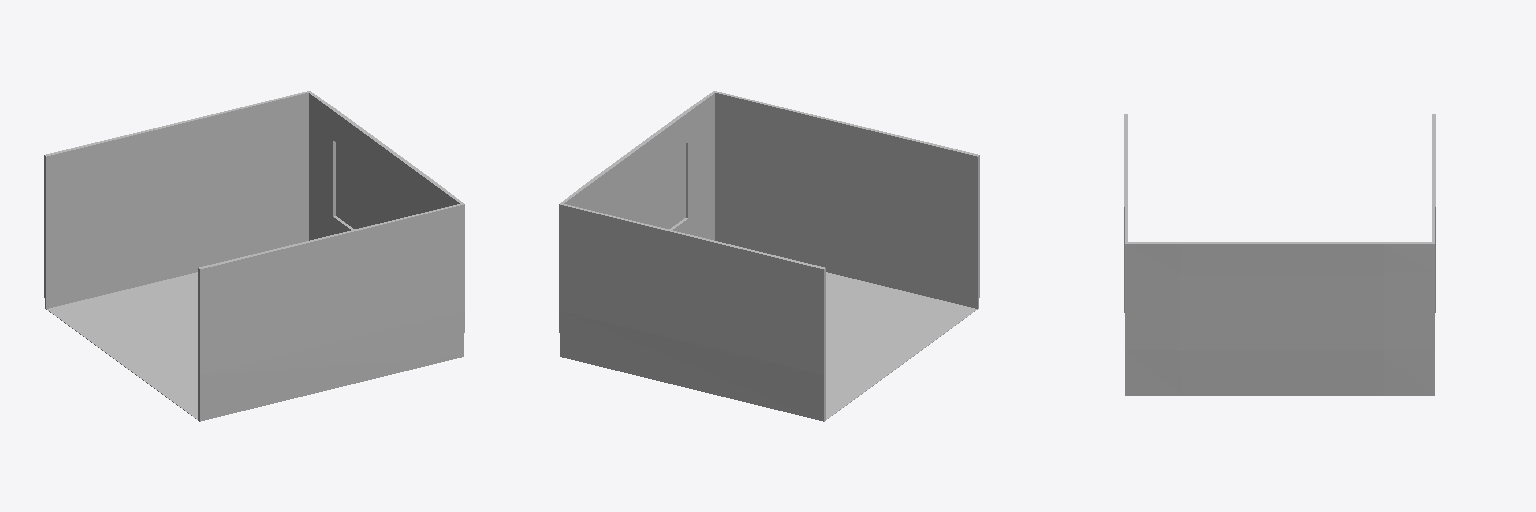
Rendered from gr_walls.obj.
The picture shows the model from 3 angles: view 1: azimuth 30°, elevation 25°; view 2: azimuth 150°, elevation 25°; view 3: azimuth 270°, elevation 25°; orthographic projection.
Visible parts, largest first — view 1: Gallaga_Room_Plane.003; view 2: Gallaga_Room_Plane.003; view 3: Gallaga_Room_Plane.003.
Part boxes in pixels (left/top/right/bottom): Gallaga_Room_Plane.003: left=44, top=91, right=464, bottom=421; Gallaga_Room_Plane.003: left=559, top=91, right=979, bottom=421; Gallaga_Room_Plane.003: left=1124, top=114, right=1435, bottom=395.
Bounding box in the file's own units: 18.51 × 10.1 × 18.75.